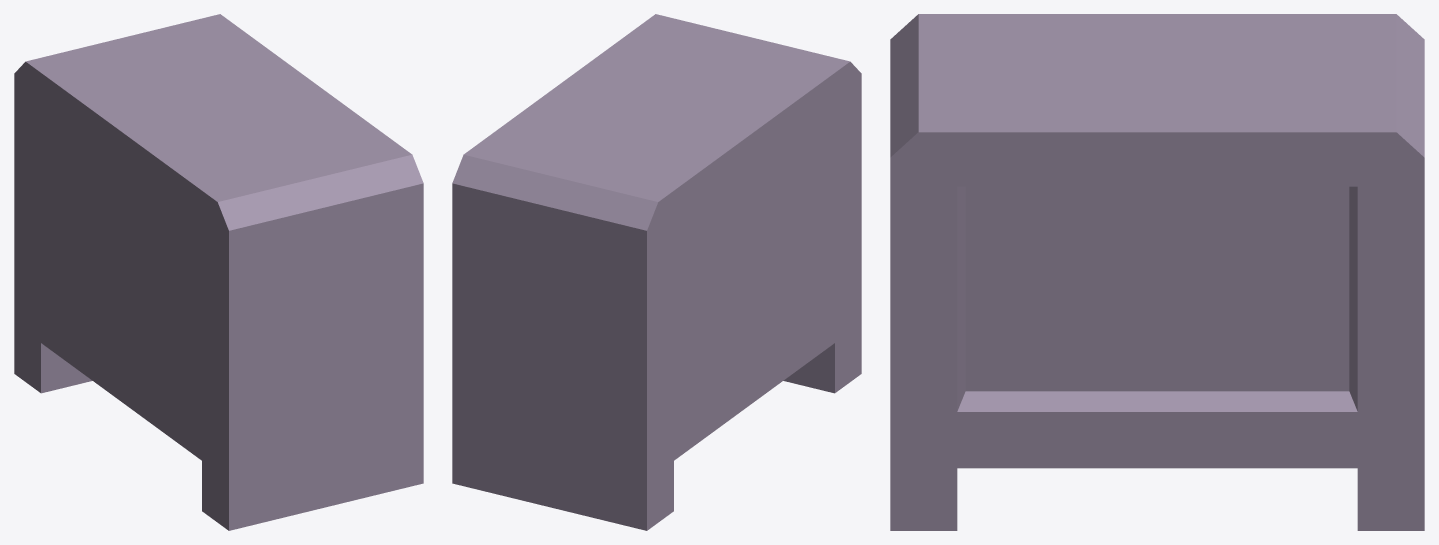
File: Radio.fbx
3 views of the same model, side by side, from view 1: azimuth 30°, elevation 25°; view 2: azimuth 150°, elevation 25°; view 3: azimuth 270°, elevation 25° (orthographic). The views are drawn at different scales.
Parts seen in each view (by area): view 1: Radio; view 2: Radio; view 3: Radio.
Part boxes in pixels (<box>): Radio: <box>14,14,423,530</box>; Radio: <box>452,14,861,530</box>; Radio: <box>890,14,1424,530</box>.
Bounding box in the file's own units: 0.1188 × 0.1868 × 0.2268.
